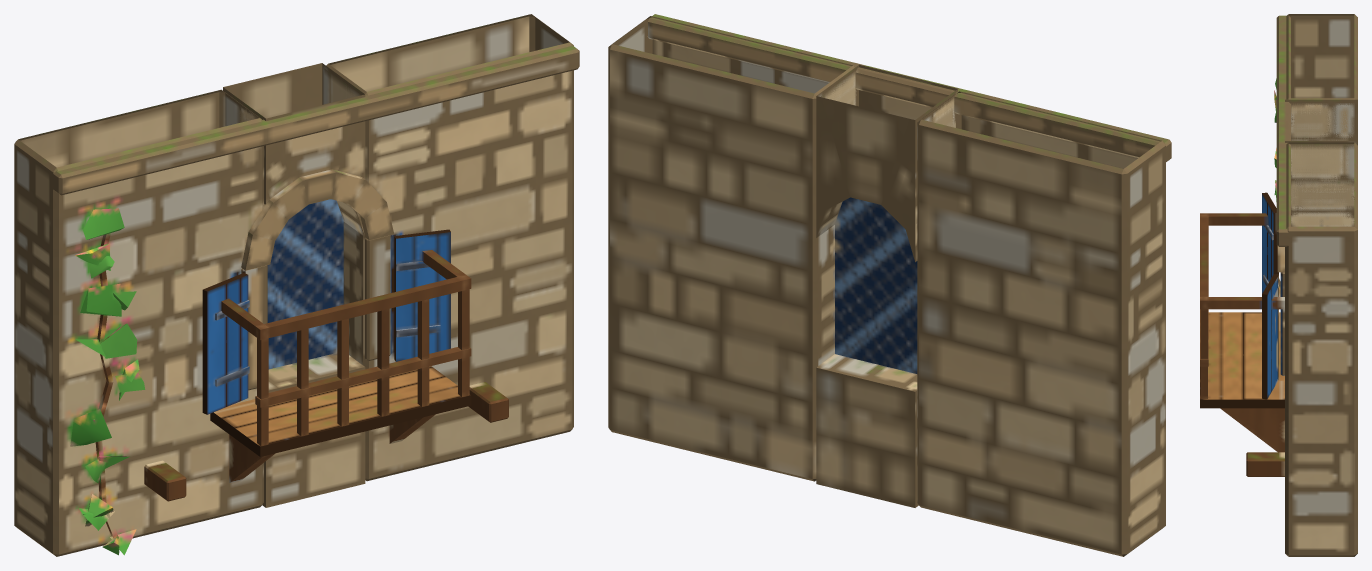
Rendered from Kit_Keep_WallBalcony.fbx.
3 renders of one model, left to right at view 1: azimuth 30°, elevation 25°; view 2: azimuth 150°, elevation 25°; view 3: azimuth 270°, elevation 25°, orthographic. The views are drawn at different scales.
Visible parts, largest first — view 1: Kit_Keep_WallBalcony_LOD0; view 2: Kit_Keep_WallBalcony_LOD0; view 3: Kit_Keep_WallBalcony_LOD0.
Part boxes in pixels (x1,y1,x2,y2): Kit_Keep_WallBalcony_LOD0: (14, 14, 579, 556); Kit_Keep_WallBalcony_LOD0: (608, 14, 1171, 556); Kit_Keep_WallBalcony_LOD0: (1200, 14, 1357, 556).
Size of what is drawn, in the model's own units: 4.2 by 3.07 by 1.3.
Materials: 1 (1 with a texture image).
